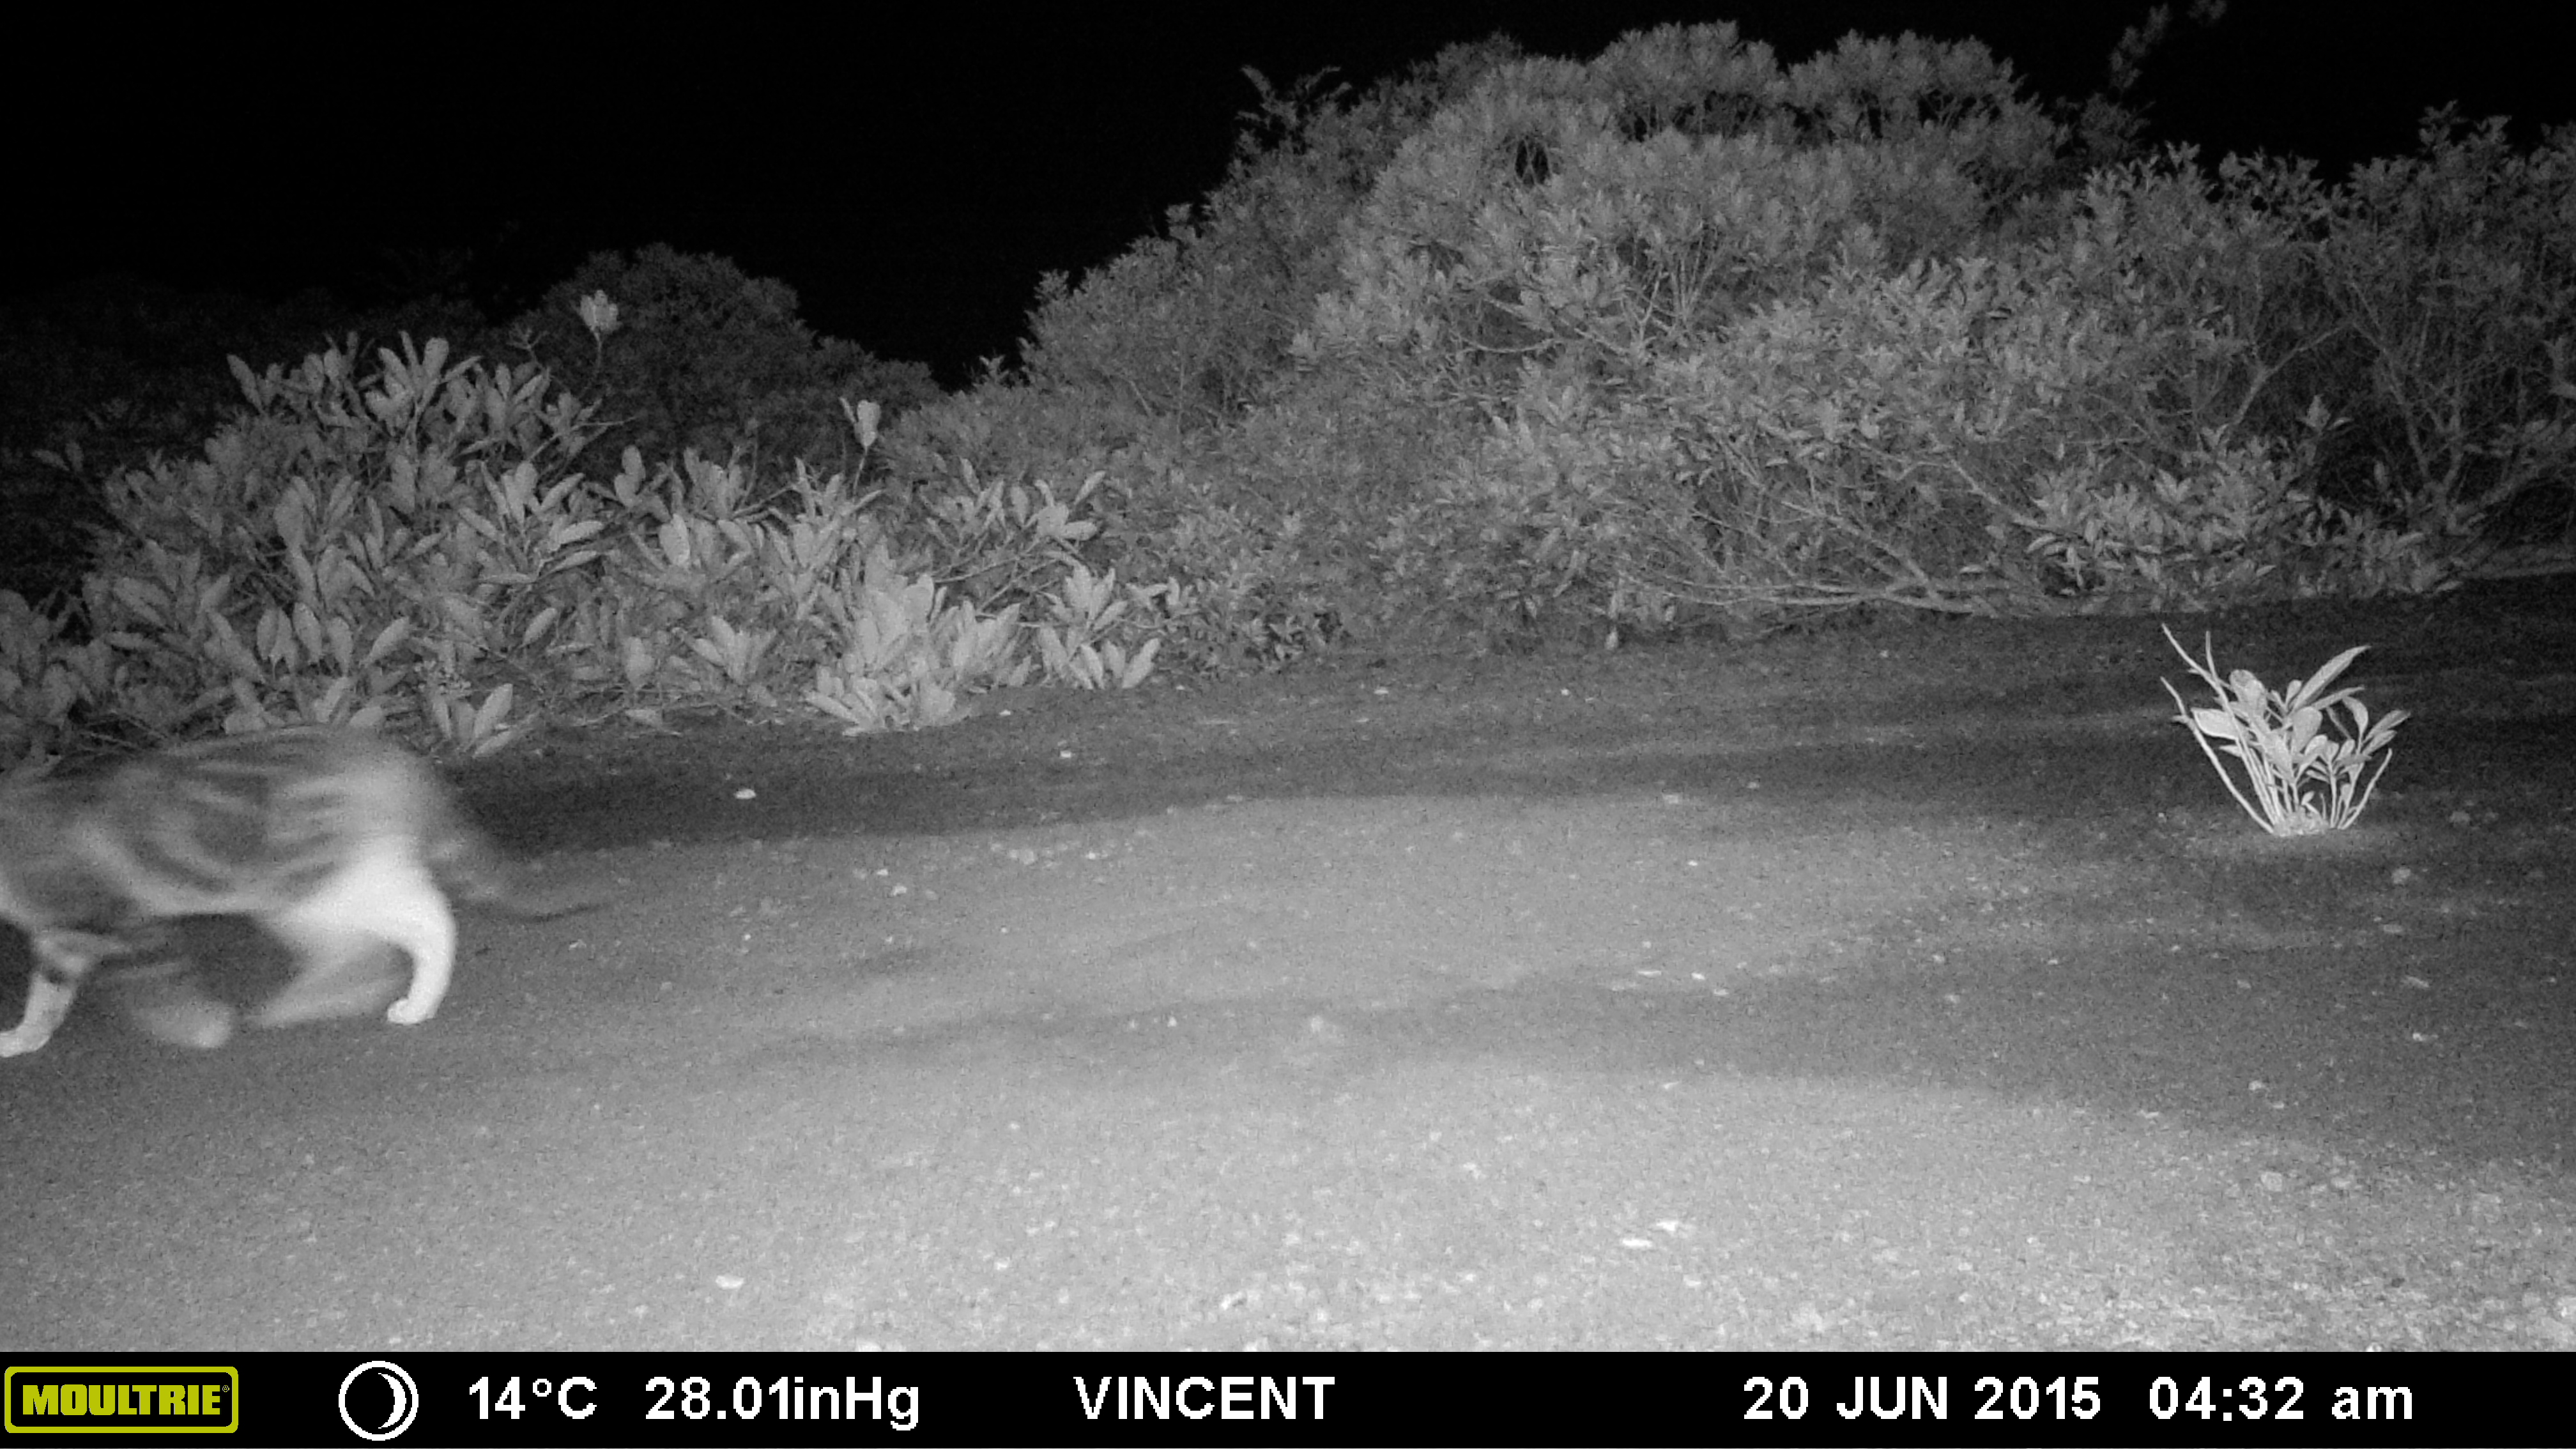cat: (5, 678, 662, 1088)
